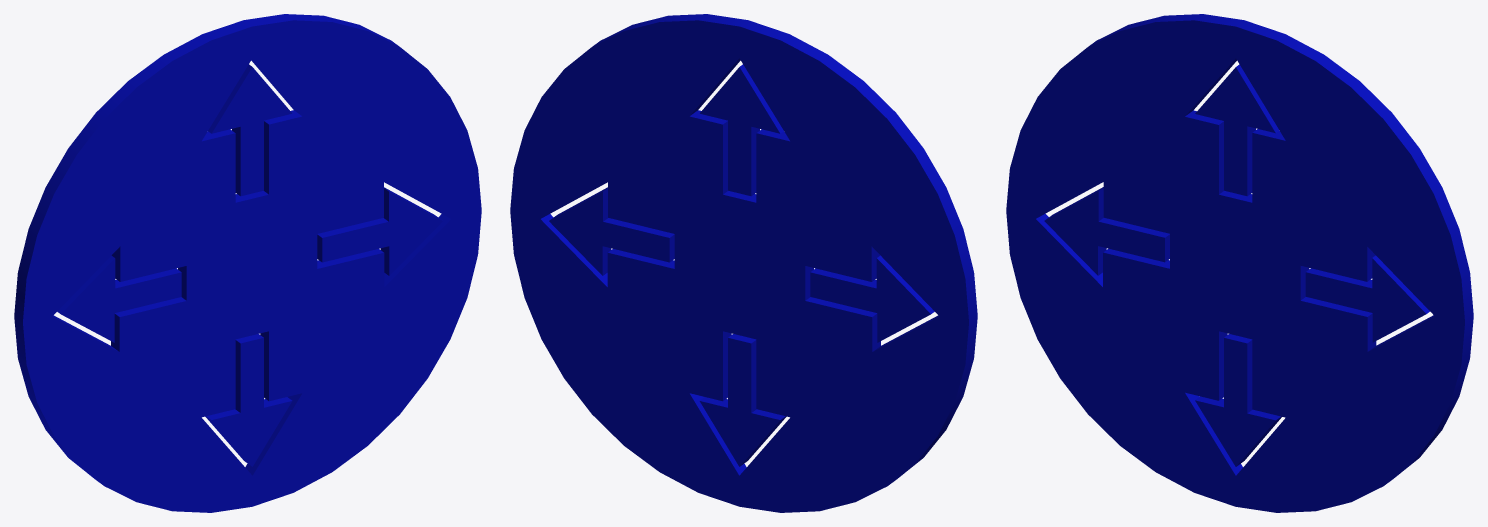
File: Joystick_2.FBX
The picture shows the model from 3 angles, left to right: view 1: azimuth 30°, elevation 25°; view 2: azimuth 150°, elevation 25°; view 3: azimuth 330°, elevation 25°; orthographic projection.
Parts seen in each view (by area): view 1: Joystick_2; view 2: Joystick_2; view 3: Joystick_2.
Part boxes in pixels (bbox=[...]): Joystick_2: bbox=[14, 14, 481, 512]; Joystick_2: bbox=[510, 14, 977, 512]; Joystick_2: bbox=[1006, 14, 1473, 512].
Size of the model in its own units: 91.74 by 91.74 by 3.
